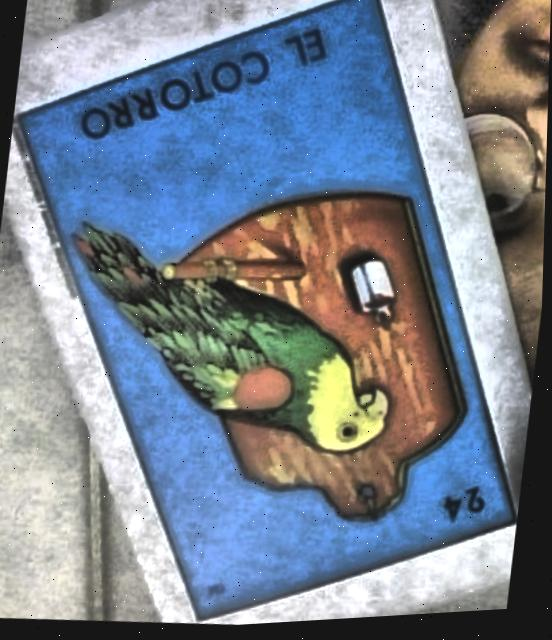El Cotorro: (18, 0, 520, 624)
